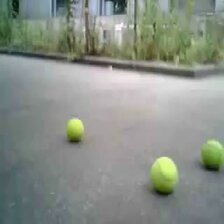tennis: (150, 156, 176, 192), (200, 141, 224, 169), (66, 119, 83, 139)
